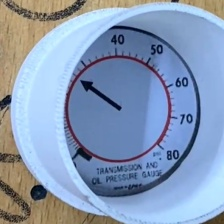gauge: (64, 27, 198, 195)
